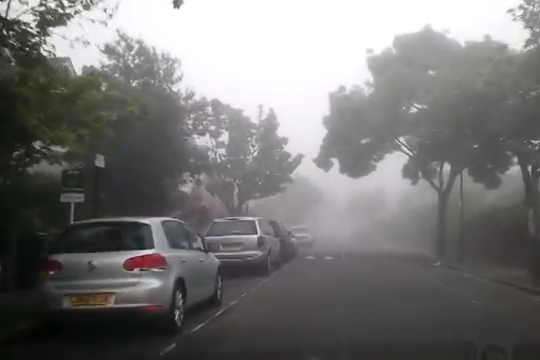car: (43, 217, 224, 330), (202, 216, 284, 276), (243, 216, 292, 262), (284, 224, 315, 249)
